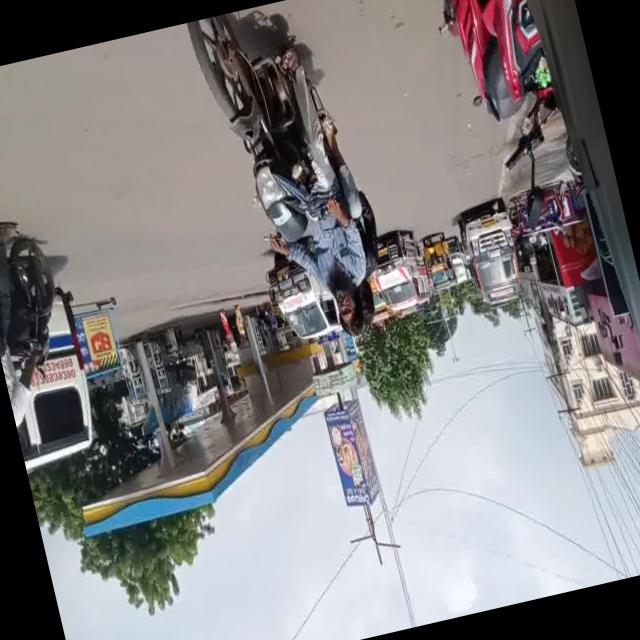ambulance: (14, 318, 114, 448), (454, 186, 526, 314), (365, 204, 435, 330), (260, 272, 339, 356), (446, 233, 472, 290)
